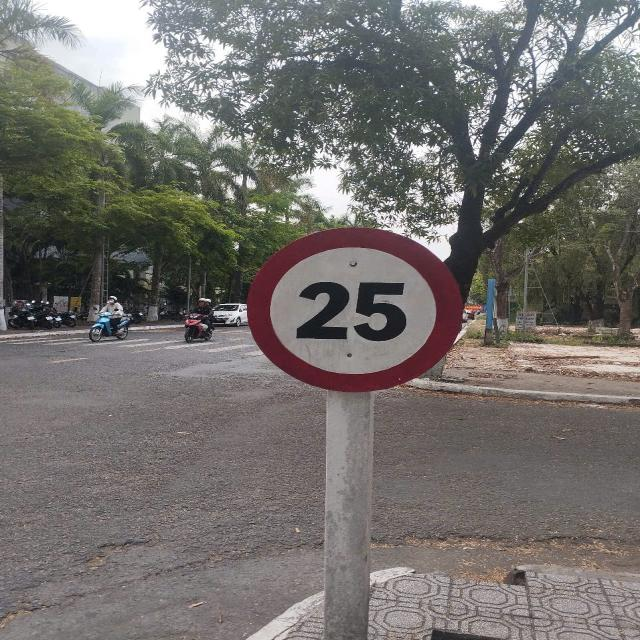Tre_Em: (242, 226, 463, 396)
